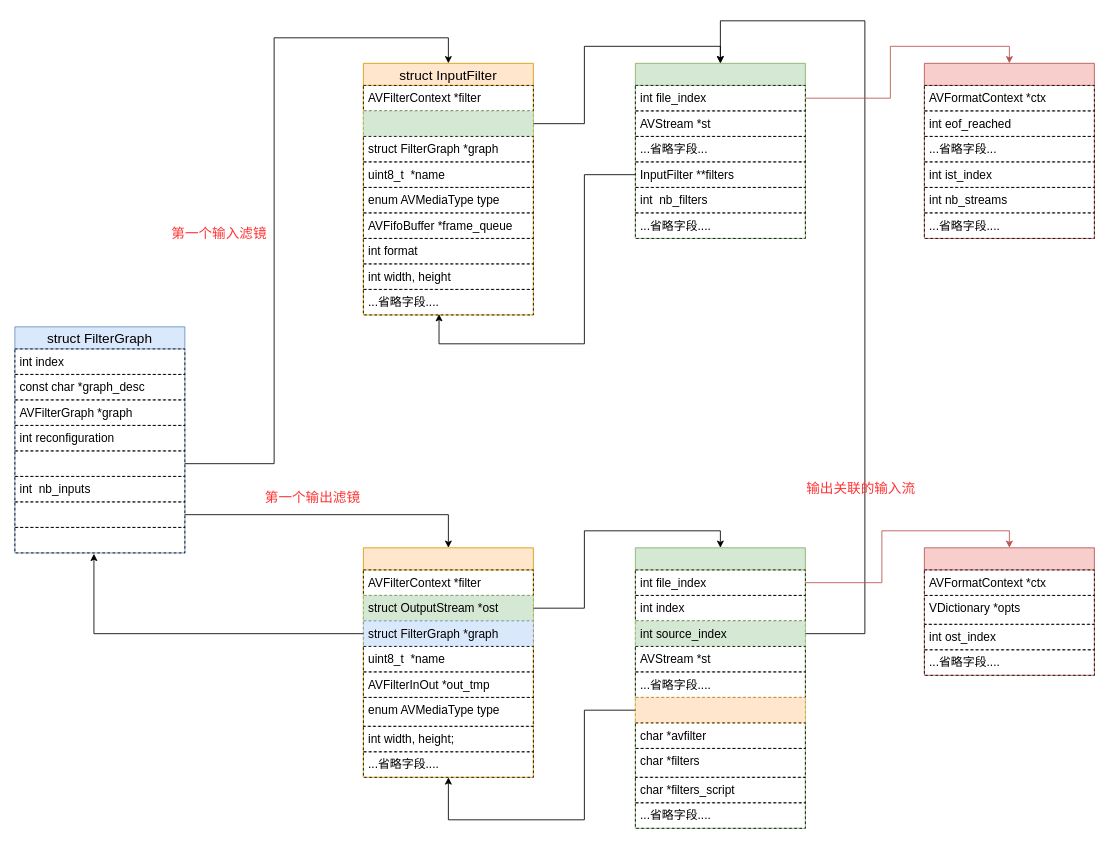
Image size: 1109x846. Some labels were removed from this diagram. Here are the shapes that lost their labels. From the top down, the box of each, then its label:
(363, 110, 533, 136): struct InputStream *ist
(635, 62, 805, 238): struct InputStream
(924, 62, 1094, 238): struct InputFile
(14, 450, 185, 476): InputFilter **inputs
(14, 501, 185, 527): OutputFilter **outputs
(14, 527, 185, 553): int nb_outputs
(924, 547, 1094, 675): struct OutputFile
(363, 547, 533, 777): struct OutputFilter
(635, 547, 805, 828): struct OutputStream
(635, 697, 805, 723): OutputFilter *filter
